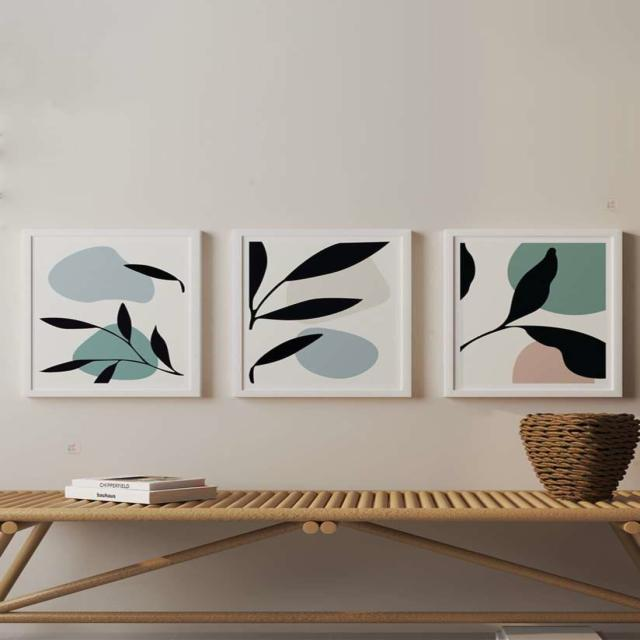painting: (235, 232, 416, 401), (22, 228, 202, 397), (445, 230, 625, 399)
